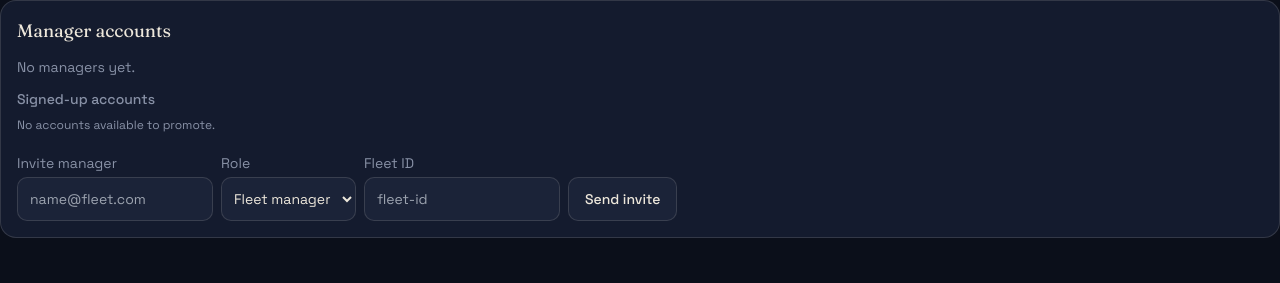
Scenario: ManagerList (real mode — Supabase env vars configured) › promotes a target to fleet_manager as an admin caller, with the entered fleet ID, and shows success
The width and height of the screenshot is (1280, 283).
In the field labelled "Invite manager": point(115, 199) [17,177,213,221], type "target@fleet.com"
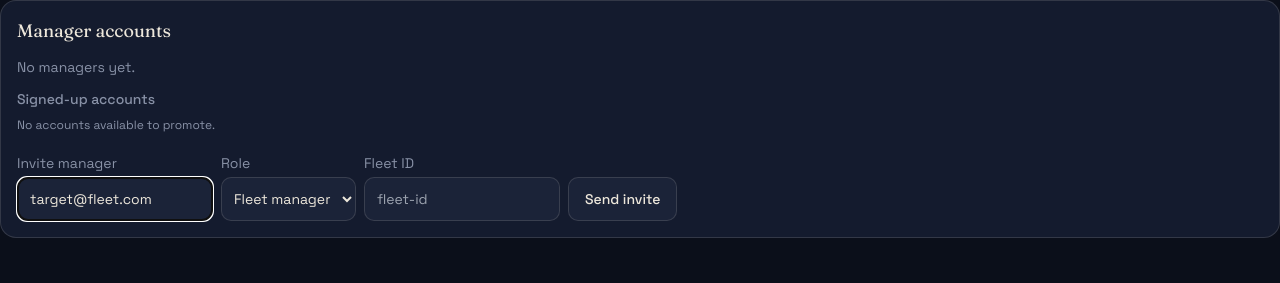
In the field labelled "Fleet ID": point(462, 199) [364,177,560,221], type "fleet-9"
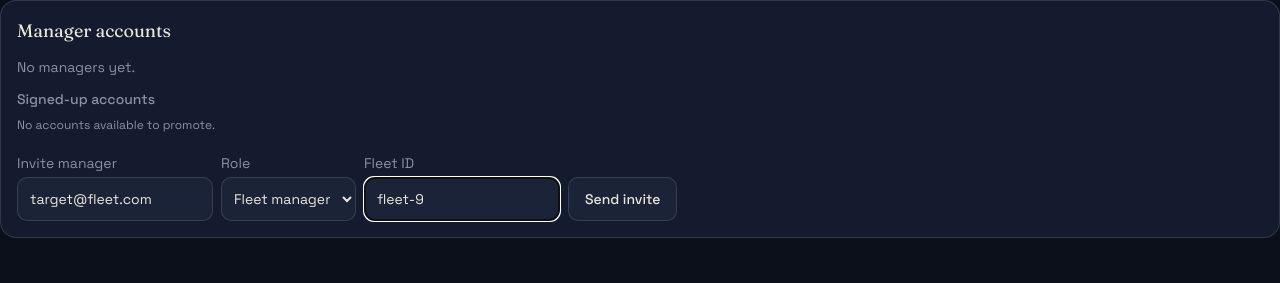
Click the button "Send invite": point(623, 199) [568,177,677,221]
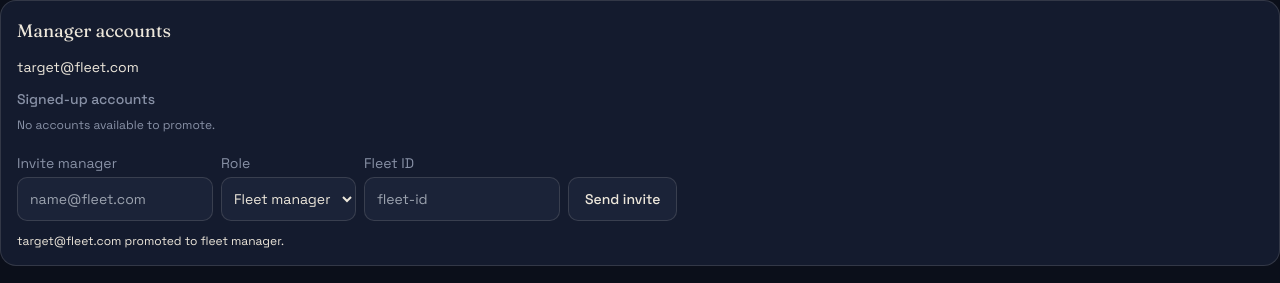
Now the text "target@fleet.com promoted to fleet manager." is shown, box [17,233,284,249]
Now the list item "target@fleet.com" is shown, box [17,58,139,76]
Now the field labelled "Invite manager" is empty, box [17,177,213,221]
